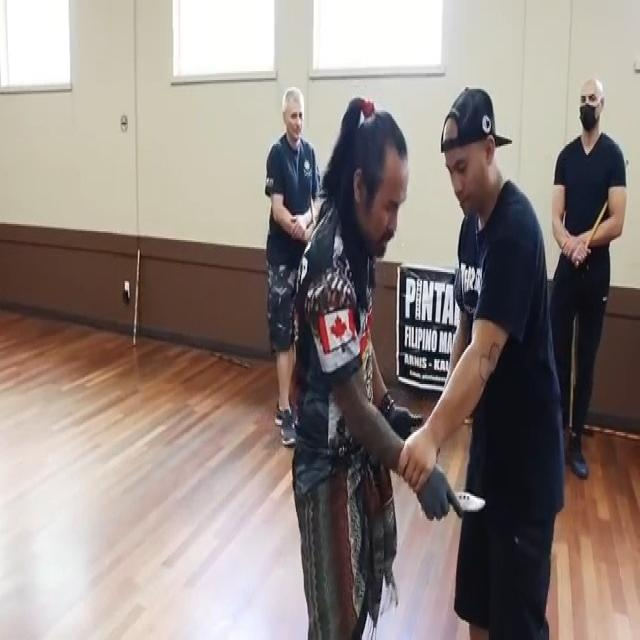Sharp-Object: (436, 482, 491, 522)
